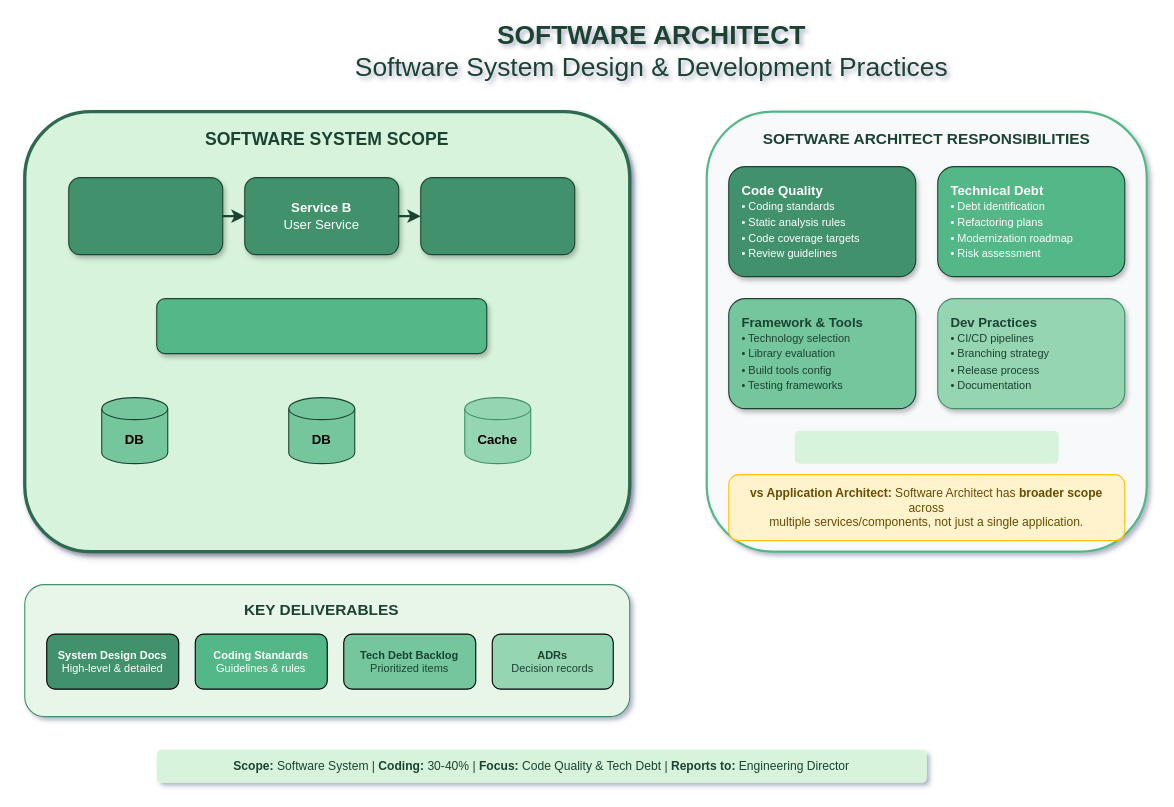
Some shapes in this 1174 by 807 pixel diagram are drawn without their labels. Each missing label, with the centre of its shape:
"30-40% CODING TIME" goes at pixel 926 446.
"Service A API Gateway" goes at pixel 146 217.
"Service C Order Service" goes at pixel 498 217.
"Shared Libraries Common Utils, Domain Models" goes at pixel 322 327.
